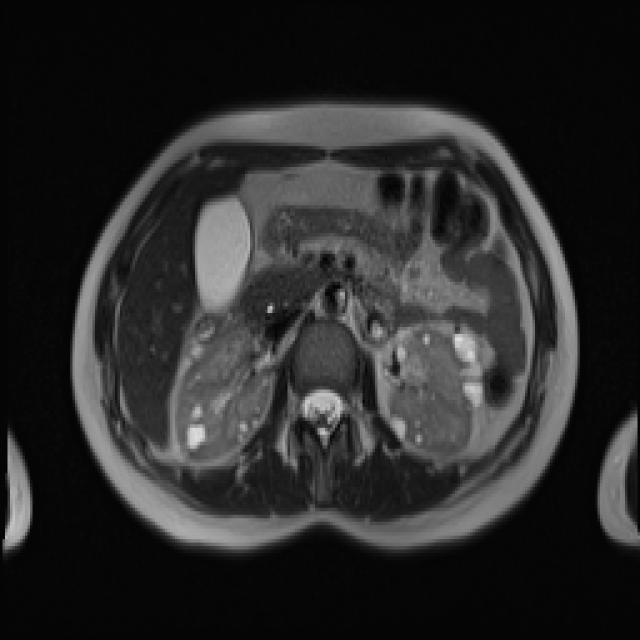sag: (176, 308, 274, 465)
sol: (389, 327, 483, 457)
